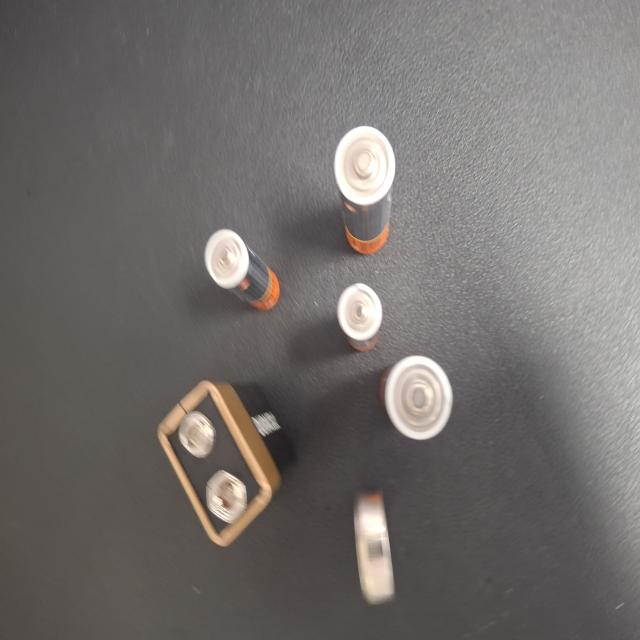9V: (345, 94, 482, 258)
AA: (245, 386, 306, 514), (187, 200, 260, 284)
AAA: (360, 329, 435, 411), (258, 289, 302, 357)
COIN: (246, 36, 286, 148)
